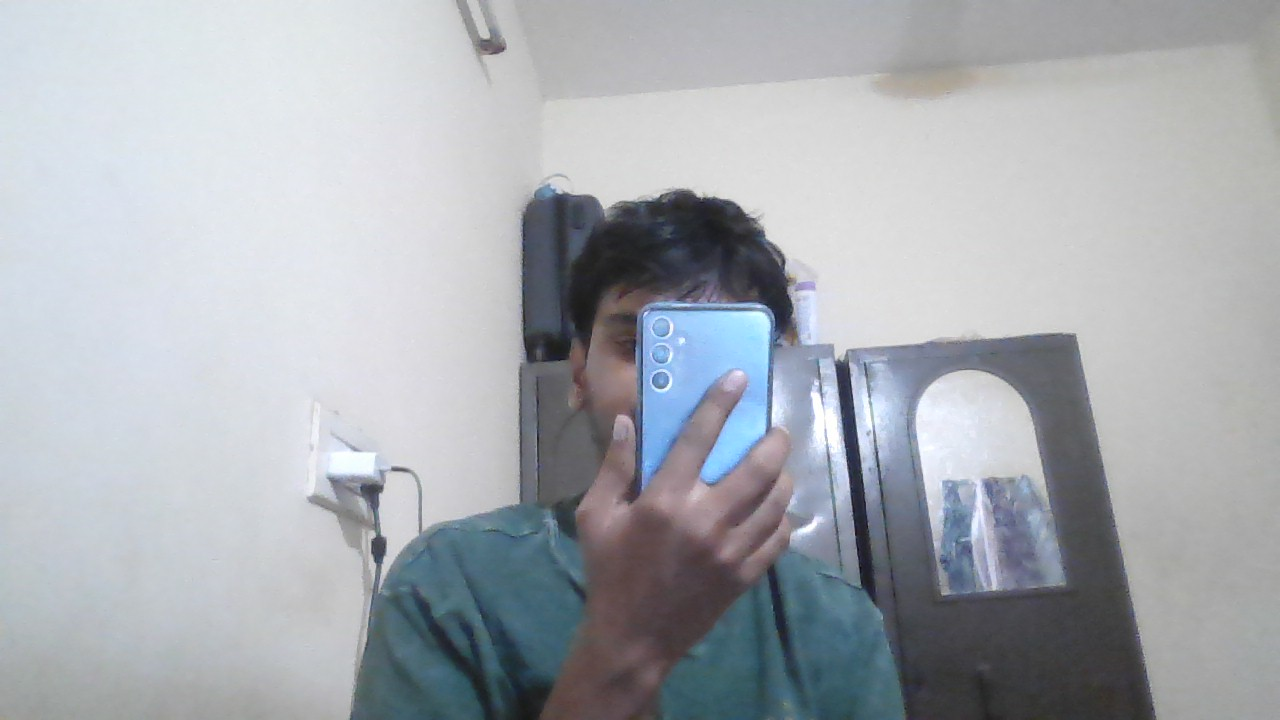phone: (638, 305, 773, 403)
